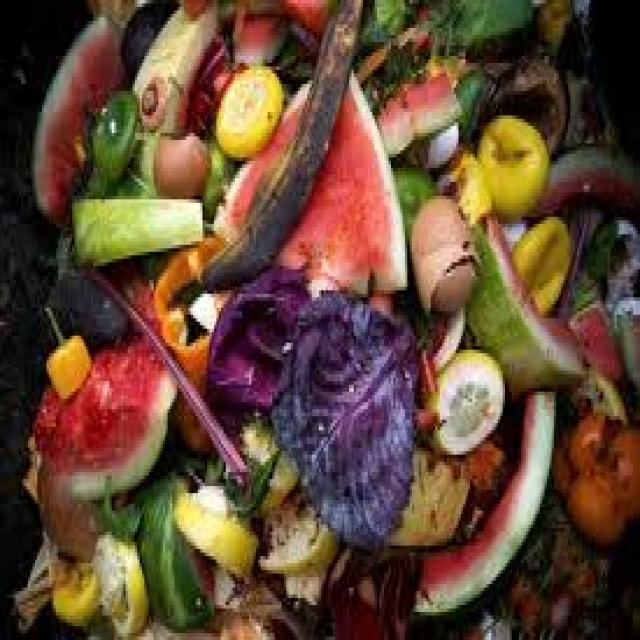food_waste: (73, 82, 583, 596)
